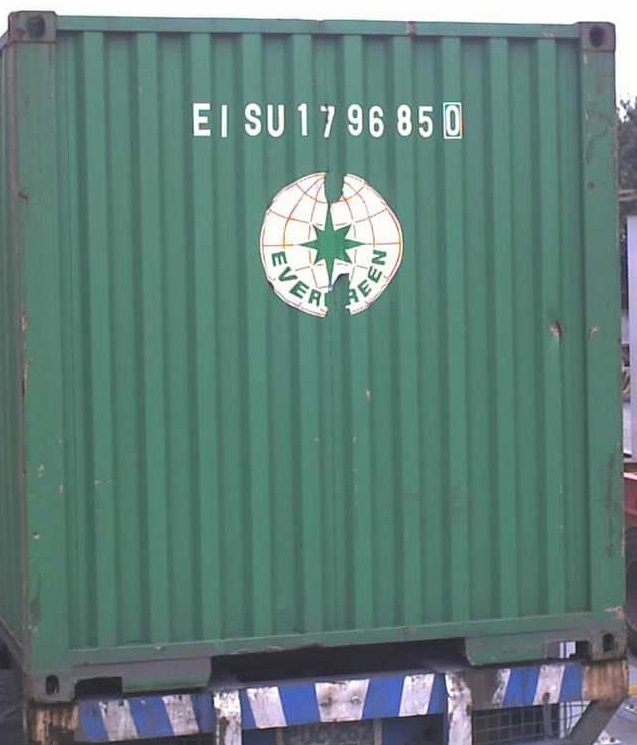container_no_door: (10, 7, 624, 687)
